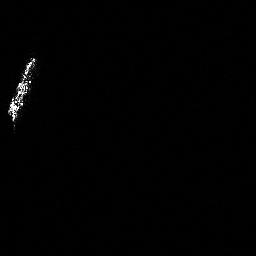ship: (4, 55, 39, 129)
